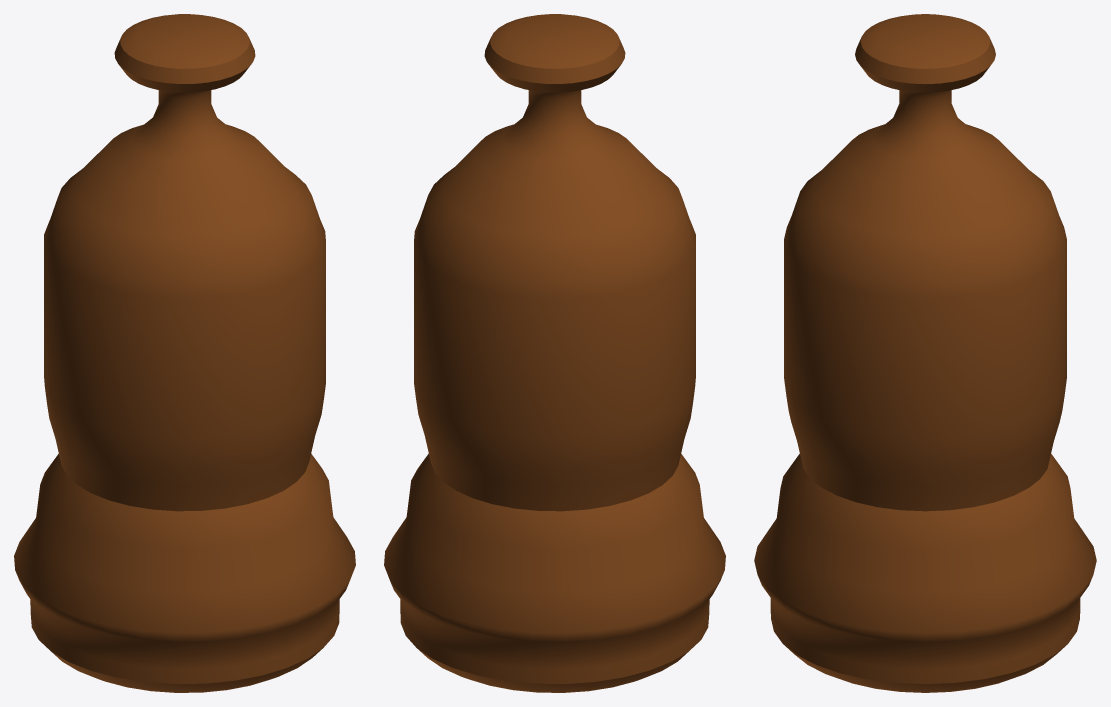
Rendered from bottle36.glb.
3 renders of one model, left to right at view 1: azimuth 30°, elevation 25°; view 2: azimuth 150°, elevation 25°; view 3: azimuth 270°, elevation 25°, orthographic.
Visible parts, largest first — view 1: Bottle36; view 2: Bottle36; view 3: Bottle36.
Part boxes in pixels (bbox=[...]): Bottle36: bbox=[14, 14, 355, 692]; Bottle36: bbox=[384, 14, 725, 692]; Bottle36: bbox=[754, 14, 1096, 692].
Bounding box in the file's own units: 0.5067 × 0.9978 × 0.5067.
